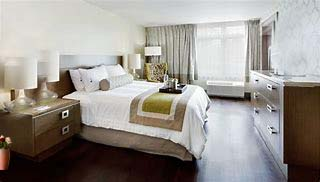copymove: (1, 53, 37, 106)
removal: (267, 27, 304, 74)
spliced: (1, 132, 13, 173)
